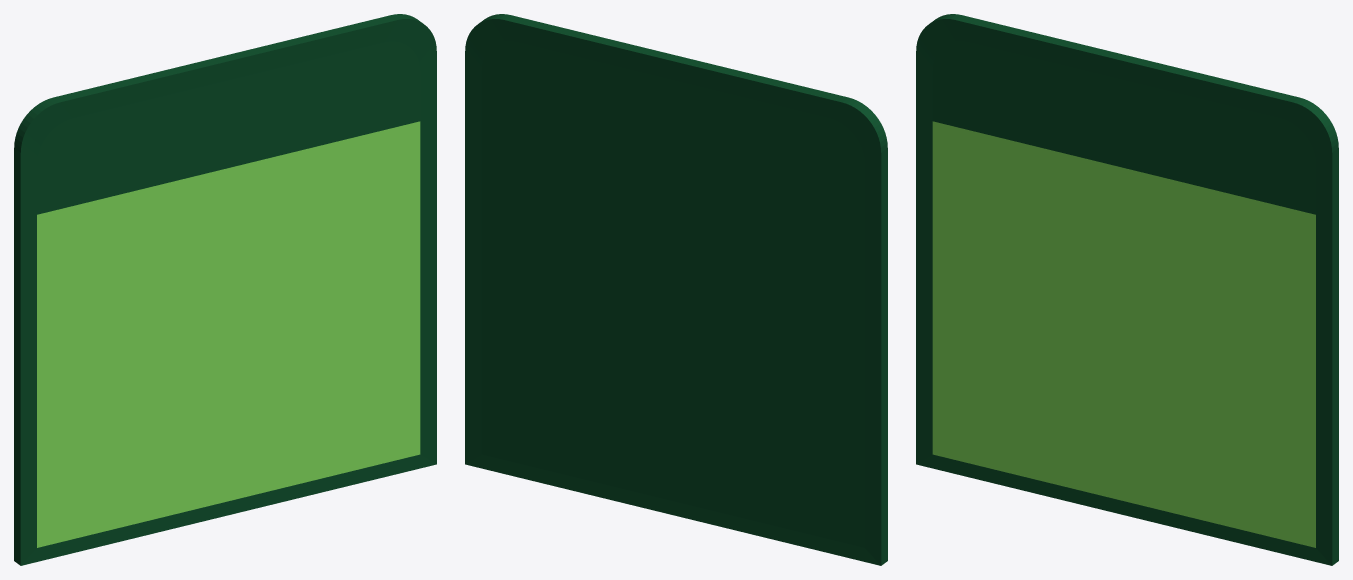
Rendered from GateType_1.fbx.
3 renders of one model, left to right at view 1: azimuth 30°, elevation 25°; view 2: azimuth 150°, elevation 25°; view 3: azimuth 330°, elevation 25°, orthographic.
Visible parts, largest first — view 1: Cube.004; view 2: Cube.004; view 3: Cube.004.
Part boxes in pixels (x1=…): Cube.004: x1=14, y1=14, x2=436, y2=565; Cube.004: x1=465, y1=14, x2=887, y2=565; Cube.004: x1=916, y1=14, x2=1338, y2=565.
Bounding box in the file's own units: 252 × 263 × 7.02.
